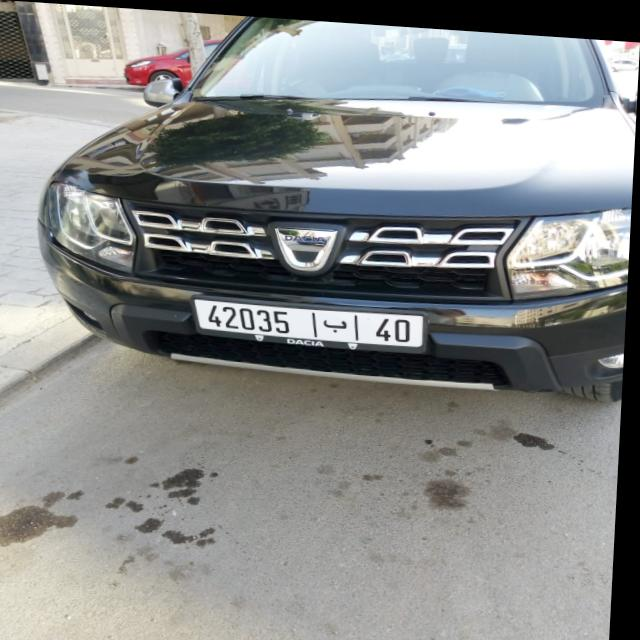License-Plate: (198, 296, 425, 342)
